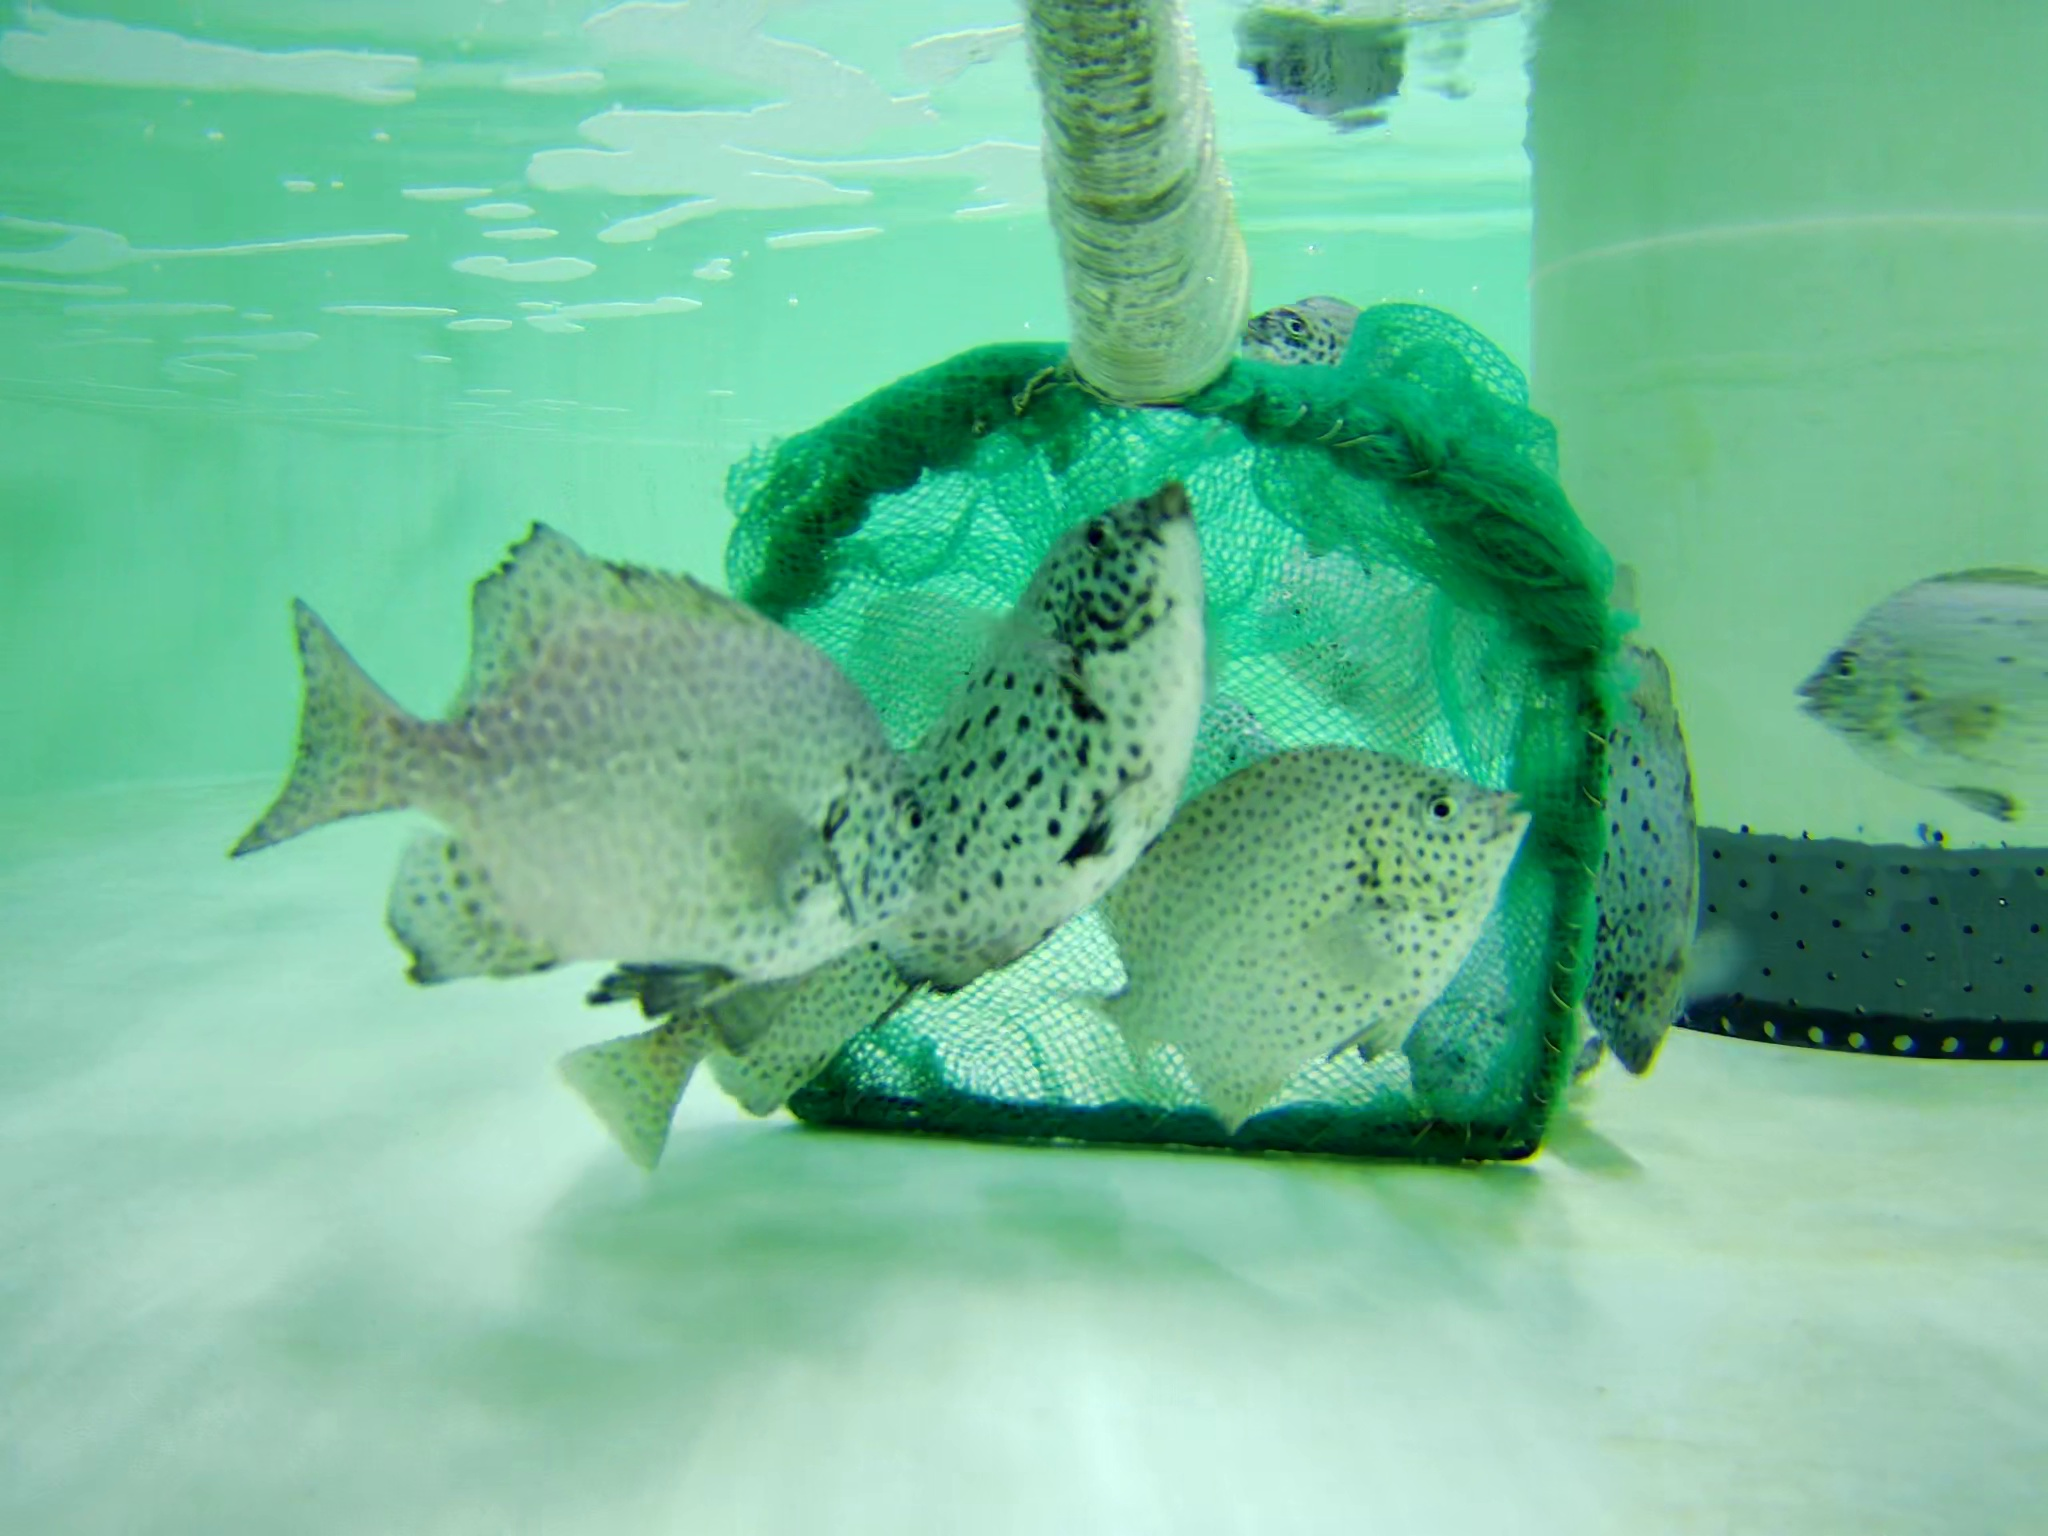fish: (273, 523, 919, 965), (1080, 744, 1551, 1133), (837, 478, 1206, 962), (1564, 658, 1729, 1094), (1793, 561, 2048, 813), (389, 823, 693, 991), (848, 595, 1079, 807), (1340, 571, 1500, 774), (1403, 881, 1530, 1129), (1237, 279, 1427, 395), (1177, 692, 1293, 808), (1266, 565, 1364, 687)
